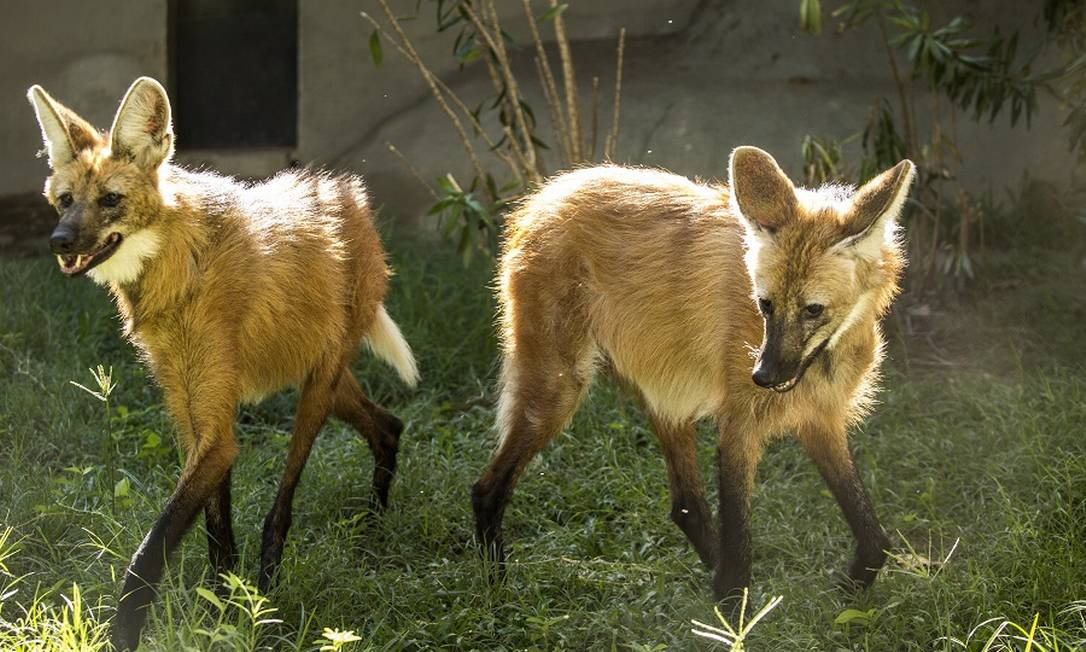LoboGuara: (12, 69, 426, 629), (464, 136, 930, 612)
